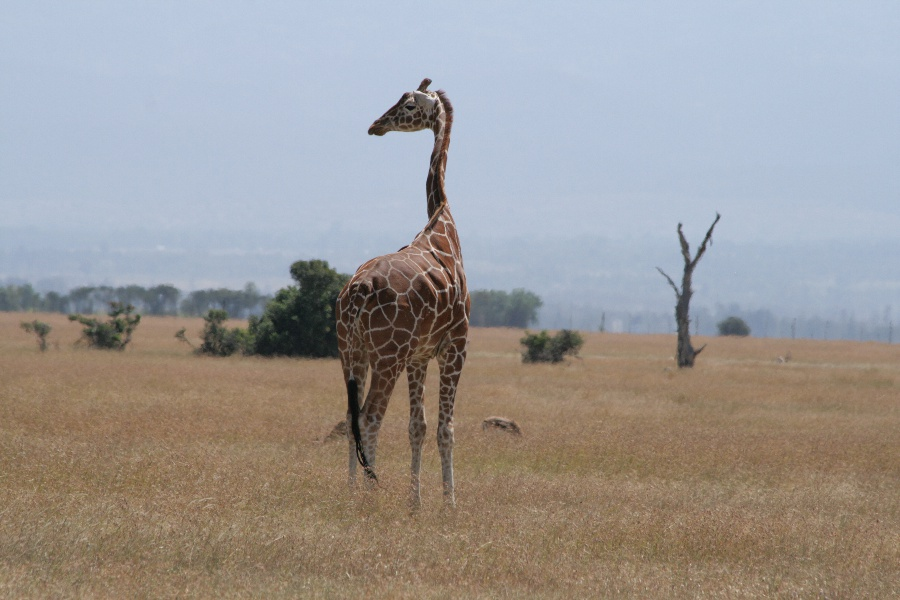giraffe: (333, 69, 475, 528)
